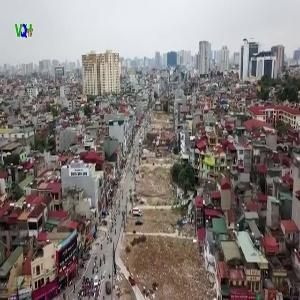drone: (163, 206, 200, 243)
